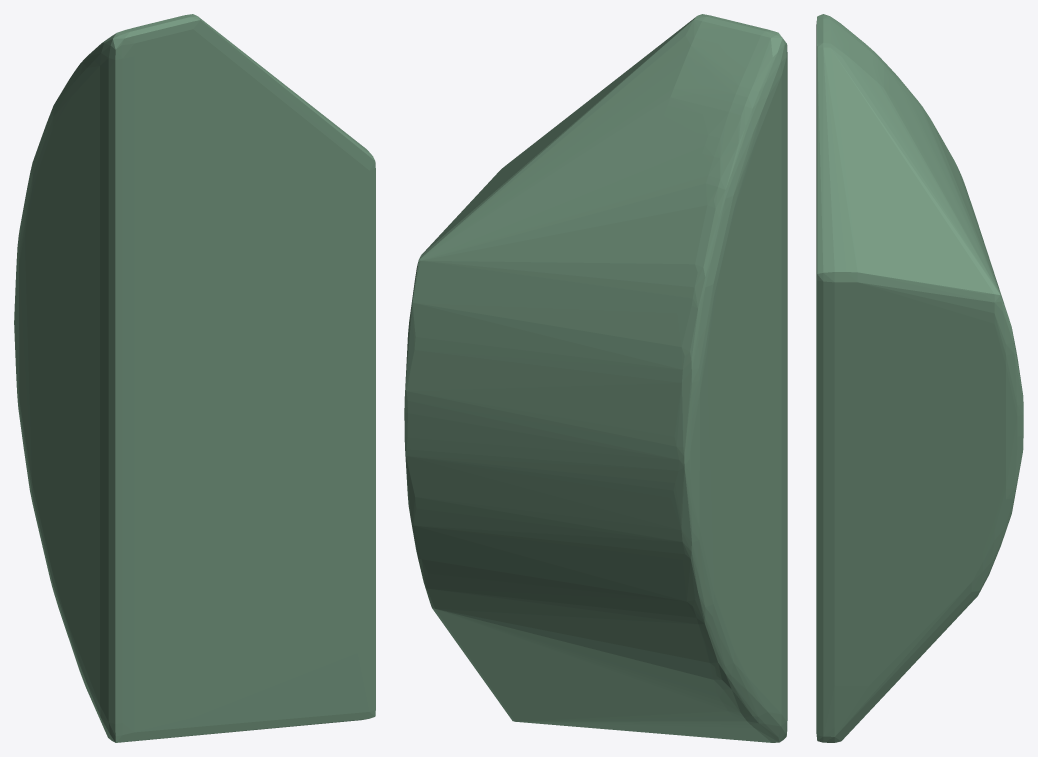
The model's file is left_hip_roll_link_part_0.obj.
3 views of the same model, side by side, from view 1: azimuth 30°, elevation 25°; view 2: azimuth 150°, elevation 25°; view 3: azimuth 270°, elevation 25° (orthographic). The views are drawn at different scales.
Bounding box in the file's own units: 0.0339 × 0.0892 × 0.0268.
